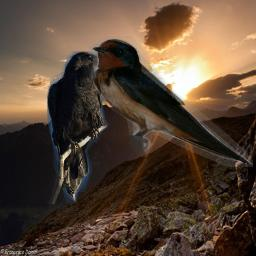Crow: (47, 51, 115, 204)
Swallow: (88, 36, 253, 167)
